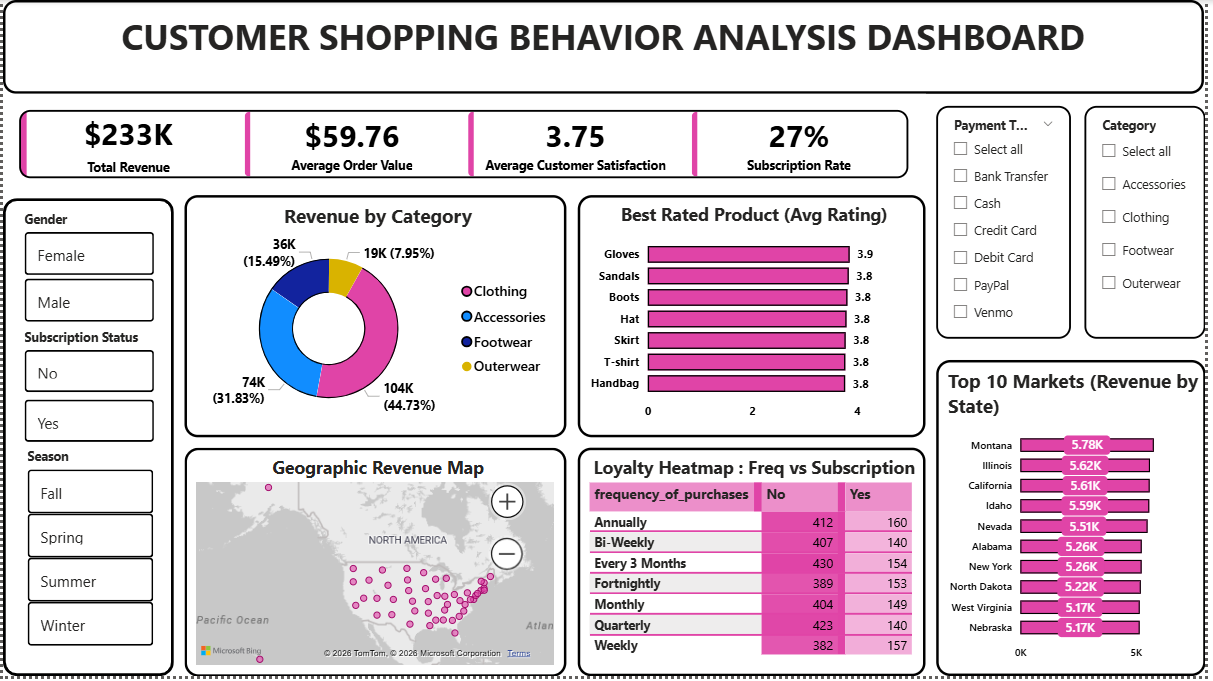

The dashboard page shown, as its layout file describes it:
{"tool":"powerbi","page":{"name":"Page 1","canvas":[1280,720],"ordinal":0},"visuals":[{"type":"textbox","box":[0,0,1278.7,91.8],"z":0},{"type":"donutChart","title":"Revenue by Category","fields":{"Category":["customer_dataset customer.category"],"Y":["Sum(customer_dataset customer.purchase_amount_usd)"]},"box":[193.2,208.5,406.8,257.6],"z":1000},{"type":"map","title":"Geographic Revenue Map","fields":{"Category":["customer_dataset customer.location"]},"box":[193.2,476.3,406.8,244.1],"z":2000},{"type":"clusteredBarChart","title":"Top 10 Markets (Revenue by State)","fields":{"Y":["customer_dataset customer.Total Revenue"],"Category":["customer_dataset customer.location"]},"box":[993.6,383.3,286.7,336.6],"z":3000},{"type":"shape","box":[0,211,182,508.9],"z":4000},{"type":"advancedSlicerVisual","title":"Subscription Status","fields":{"Values":["customer_dataset customer.subscription_status"]},"box":[17.7,349.5,148.2,127.2],"z":5000},{"type":"advancedSlicerVisual","title":"Gender","fields":{"Values":["customer_dataset customer.gender"]},"box":[17.7,223.8,148.2,125.6],"z":6000},{"type":"advancedSlicerVisual","title":"Season","fields":{"Values":["customer_dataset customer.season"]},"box":[20.9,476.7,144.9,219],"z":7000},{"type":"slicer","title":"Category","fields":{"Values":["customer_dataset customer.category"]},"box":[1151.4,112.7,128.8,248],"z":8000},{"type":"slicer","title":"Payment Type","fields":{"Values":["customer_dataset customer.payment_method"]},"box":[993.6,112.7,143.3,248],"z":9000},{"type":"pivotTable","title":"Loyalty Heatmap : Freq vs Subscription","fields":{"Rows":["customer_dataset customer.frequency_of_purchases"],"Columns":["customer_dataset customer.subscription_status"],"Values":["CountNonNull(customer_dataset customer.customer_id)"]},"box":[612,476.7,370.4,243.2],"z":10000},{"type":"clusteredBarChart","title":"Best Rated Product (Avg Rating)","fields":{"Y":["Avg(customer_dataset customer.review_rating)"],"Category":["customer_dataset customer.item_purchased"]},"box":[612,207.7,370.4,257.7],"z":11000},{"type":"cardVisual","fields":{"Data":["customer_dataset customer.Total Revenue","customer_dataset customer.Average Order Value","customer_dataset customer.Average Customer Satisfaction","customer_dataset customer.Subscription Rate"]},"box":[0,91.8,982.3,107.9],"z":12000}]}

Visuals, with their boxes in screenshot pixels (x1, y1, x2, y2), scaled from the page's 1280x720 canvas onto the 1213x681 screenshot:
textbox: [left=0, top=0, right=1212, bottom=87]
"Revenue by Category" donutChart: [left=183, top=197, right=569, bottom=441]
"Geographic Revenue Map" map: [left=183, top=451, right=569, bottom=680]
"Top 10 Markets (Revenue by State)" clusteredBarChart: [left=942, top=363, right=1212, bottom=680]
shape: [left=0, top=200, right=172, bottom=680]
"Subscription Status" advancedSlicerVisual: [left=17, top=331, right=157, bottom=451]
"Gender" advancedSlicerVisual: [left=17, top=212, right=157, bottom=330]
"Season" advancedSlicerVisual: [left=20, top=451, right=157, bottom=658]
"Category" slicer: [left=1091, top=107, right=1212, bottom=341]
"Payment Type" slicer: [left=942, top=107, right=1077, bottom=341]
"Loyalty Heatmap : Freq vs Subscription" pivotTable: [left=580, top=451, right=931, bottom=680]
"Best Rated Product (Avg Rating)" clusteredBarChart: [left=580, top=196, right=931, bottom=440]
cardVisual - customer_dataset customer.Total Revenue x customer_dataset customer.Average Order Value: [left=0, top=87, right=931, bottom=189]
